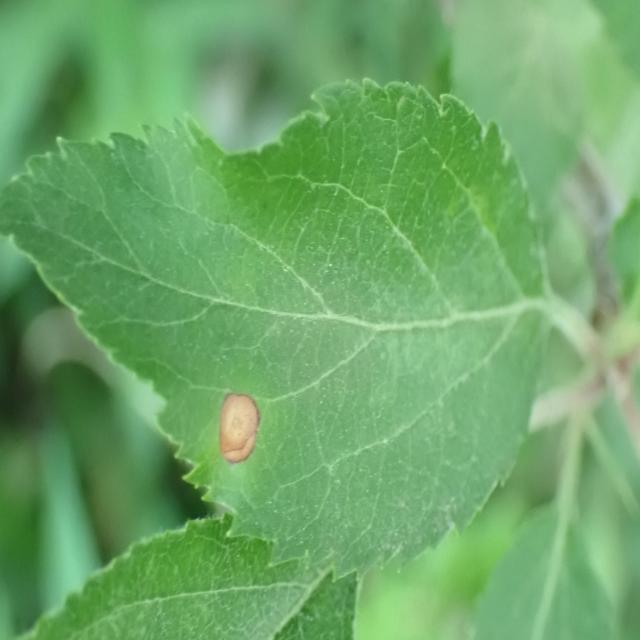frog-eye-leaf-spot: (0, 77, 550, 585)
